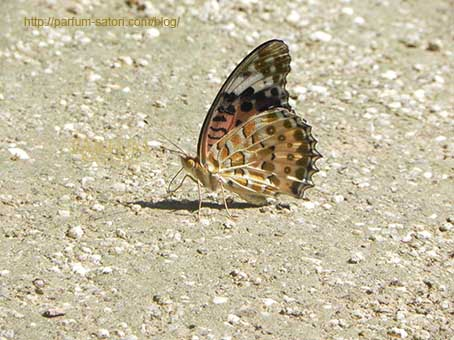Argyreus hyperbius: (138, 36, 322, 219)
butterfly: (140, 38, 324, 221)
